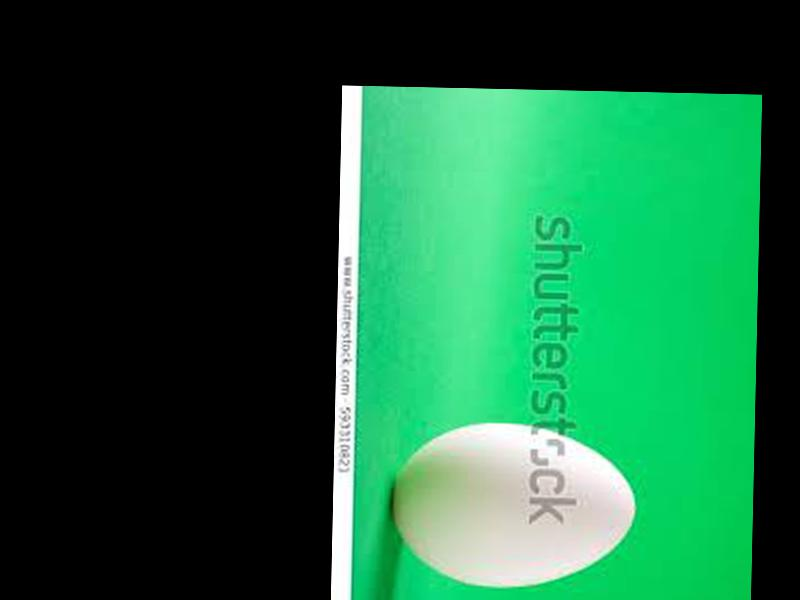Eggs: (386, 421, 636, 591)
